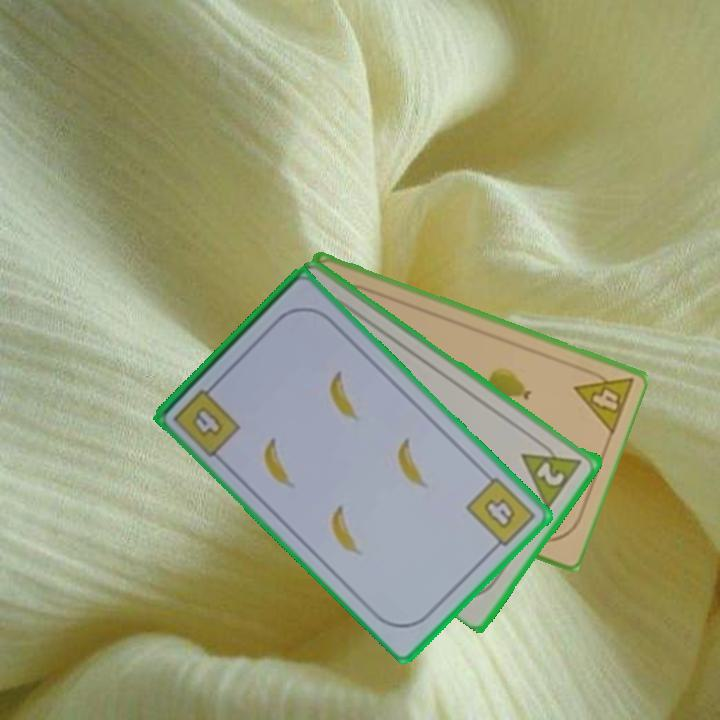2p: (518, 433, 586, 510)
4b: (463, 473, 539, 555), (169, 378, 244, 460)
4p: (570, 362, 636, 437)
